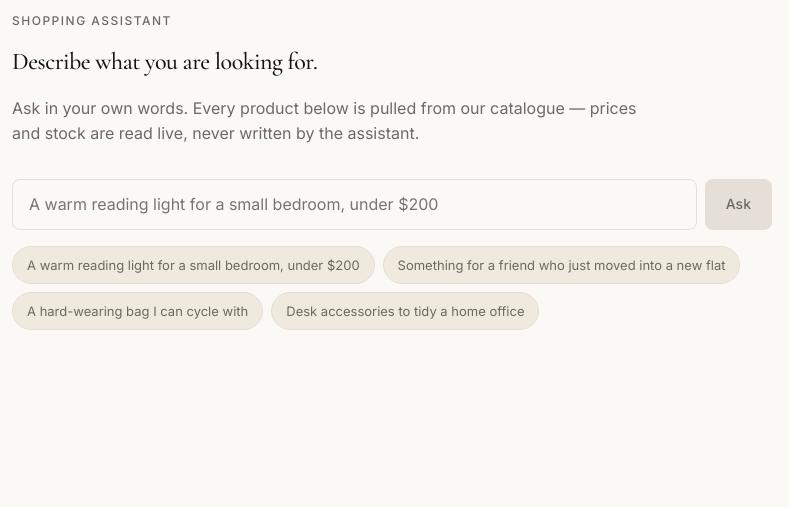
Test: AssistantPage › surfaces the server error message instead of failing silently
Type "anything" into the field named "looking for" at (354, 204), box [12, 179, 697, 230]
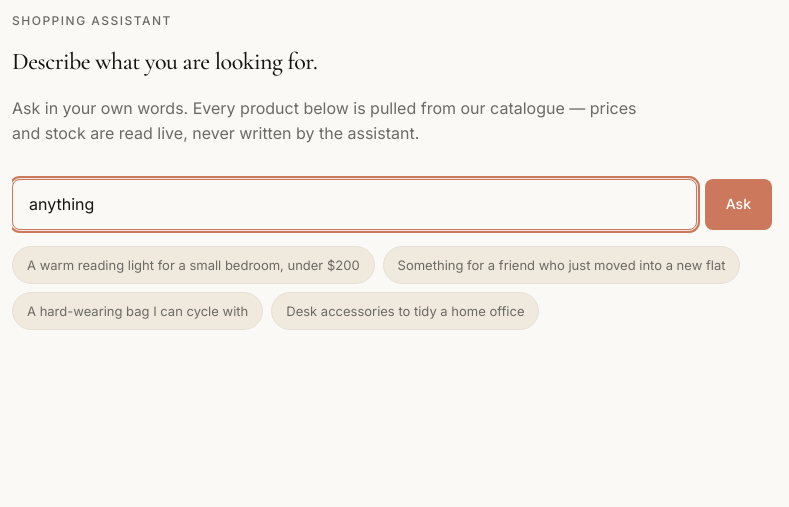
Click the button "Ask" at (738, 204), box [705, 179, 772, 230]
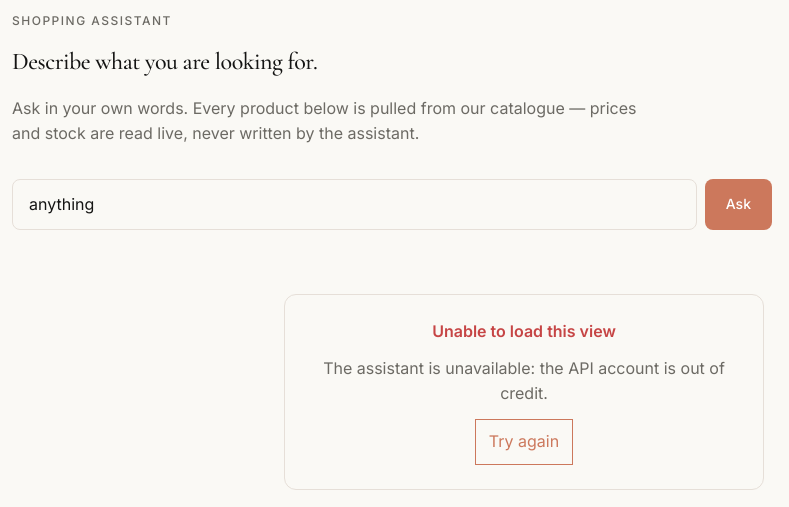
Result: the text "out of credit" is shown at [323, 358, 725, 403]
Result: the button "Try again" is shown at [475, 419, 573, 465]
